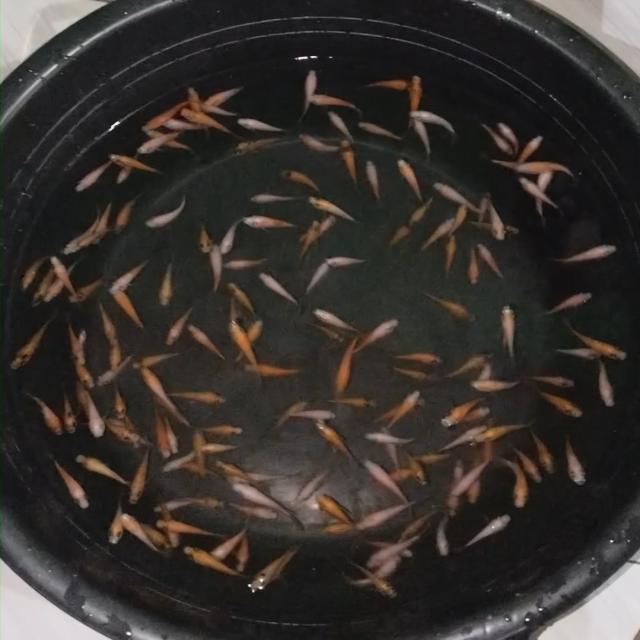nila: (230, 480, 304, 528), (226, 318, 270, 388), (359, 457, 412, 512), (9, 314, 56, 371), (564, 322, 632, 359), (358, 494, 424, 532), (182, 542, 247, 580), (49, 458, 92, 512), (245, 544, 289, 594), (457, 514, 511, 554), (41, 256, 85, 304), (110, 280, 152, 330), (30, 258, 72, 308), (180, 108, 240, 142), (316, 422, 361, 467), (348, 316, 401, 354), (72, 453, 131, 487), (430, 181, 487, 216), (62, 207, 104, 254), (208, 516, 252, 560), (264, 540, 306, 586), (288, 464, 336, 504), (120, 511, 163, 555), (256, 270, 304, 309), (352, 563, 400, 602), (517, 176, 569, 212), (368, 394, 426, 426), (186, 322, 228, 366), (101, 414, 152, 450), (26, 390, 64, 438), (331, 333, 359, 396), (317, 493, 358, 536), (112, 190, 150, 236), (366, 533, 422, 564), (142, 122, 196, 154), (452, 458, 494, 499), (432, 350, 489, 380), (498, 455, 528, 511), (384, 388, 422, 432), (140, 98, 189, 132), (350, 556, 402, 588), (138, 362, 174, 408), (109, 256, 149, 297), (74, 158, 117, 196), (147, 192, 191, 229), (93, 350, 133, 390), (420, 212, 459, 253), (232, 317, 266, 364), (154, 388, 192, 430), (551, 242, 616, 266), (134, 125, 184, 156), (408, 106, 456, 138), (64, 275, 112, 306), (156, 516, 223, 538), (438, 394, 480, 429), (538, 389, 585, 420), (165, 303, 198, 347), (477, 418, 535, 443), (50, 252, 80, 300), (268, 396, 304, 436), (338, 136, 364, 191), (156, 494, 182, 549), (594, 357, 620, 412), (422, 292, 473, 320), (396, 507, 439, 540), (303, 90, 362, 114), (435, 422, 482, 452), (544, 290, 594, 318), (324, 105, 358, 146), (501, 304, 522, 369), (478, 120, 512, 160), (474, 242, 508, 282), (308, 196, 360, 222), (296, 214, 322, 266), (80, 388, 106, 440), (311, 306, 361, 333), (222, 468, 306, 484), (203, 81, 249, 110), (297, 66, 320, 124), (274, 168, 325, 194), (222, 500, 282, 522), (88, 198, 116, 245), (528, 429, 556, 476), (96, 299, 123, 347), (149, 405, 173, 459), (530, 168, 554, 222), (296, 212, 339, 242), (110, 152, 166, 175), (22, 248, 54, 288), (350, 120, 408, 142), (230, 522, 254, 575), (294, 130, 339, 158), (408, 113, 436, 158), (512, 445, 546, 482), (186, 84, 211, 134), (134, 346, 182, 372), (228, 278, 260, 316), (564, 438, 588, 488), (366, 467, 418, 490), (57, 380, 79, 434), (220, 214, 248, 256), (513, 160, 577, 178), (396, 158, 422, 202), (130, 452, 152, 504), (190, 426, 210, 482), (243, 214, 304, 232), (94, 417, 141, 440), (169, 388, 229, 406), (468, 377, 522, 397), (108, 494, 128, 547), (211, 459, 257, 482), (380, 428, 405, 470), (363, 538, 418, 557), (402, 448, 428, 488), (550, 344, 602, 364), (302, 321, 347, 344), (406, 73, 424, 130), (364, 157, 384, 208), (278, 406, 340, 422), (158, 115, 210, 134), (488, 198, 508, 247), (496, 118, 521, 157), (228, 136, 282, 154), (526, 370, 580, 388), (67, 322, 88, 368), (432, 513, 452, 561), (206, 242, 223, 298), (303, 262, 331, 296), (154, 450, 193, 474), (469, 220, 521, 238), (118, 409, 140, 451), (362, 76, 423, 91), (446, 201, 470, 239), (234, 117, 290, 133), (140, 524, 172, 551), (76, 228, 119, 248), (390, 362, 433, 382), (114, 152, 140, 185), (321, 394, 381, 408), (454, 403, 494, 424), (518, 132, 546, 162), (486, 152, 524, 174), (242, 365, 306, 378), (158, 258, 176, 304), (321, 514, 357, 537), (480, 420, 498, 466), (442, 232, 460, 278), (362, 432, 421, 446), (391, 348, 446, 363), (172, 494, 226, 509), (70, 357, 96, 388), (410, 196, 436, 227), (107, 326, 123, 376), (71, 376, 90, 418), (150, 495, 194, 513), (220, 256, 272, 271), (408, 448, 456, 464), (180, 462, 222, 480), (243, 193, 310, 204), (320, 253, 370, 267), (470, 448, 482, 506), (202, 423, 248, 438), (110, 376, 126, 418), (466, 244, 482, 286), (166, 412, 181, 456), (192, 218, 211, 252), (196, 441, 242, 454), (476, 188, 490, 229), (228, 293, 244, 328), (477, 358, 498, 384), (199, 106, 239, 119), (388, 225, 410, 248), (451, 453, 466, 486), (448, 480, 462, 511), (498, 322, 512, 352), (76, 327, 90, 355)
